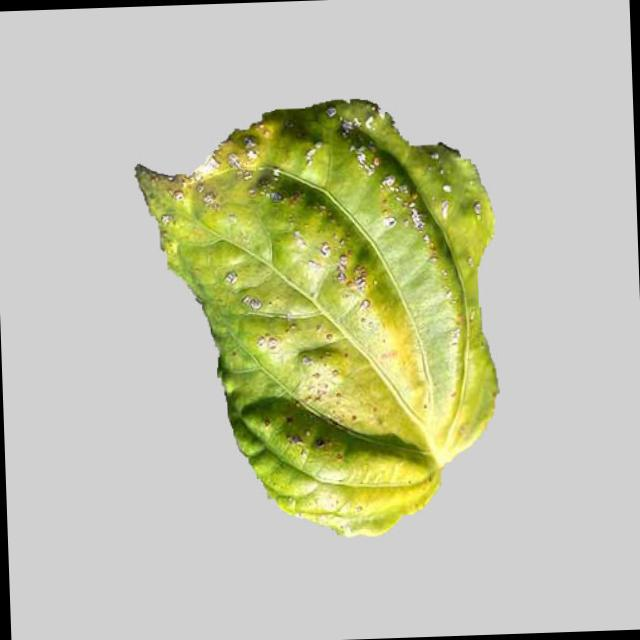yellow-mottle-virus: (132, 98, 521, 532)
